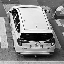motor: (14, 12, 55, 58)
